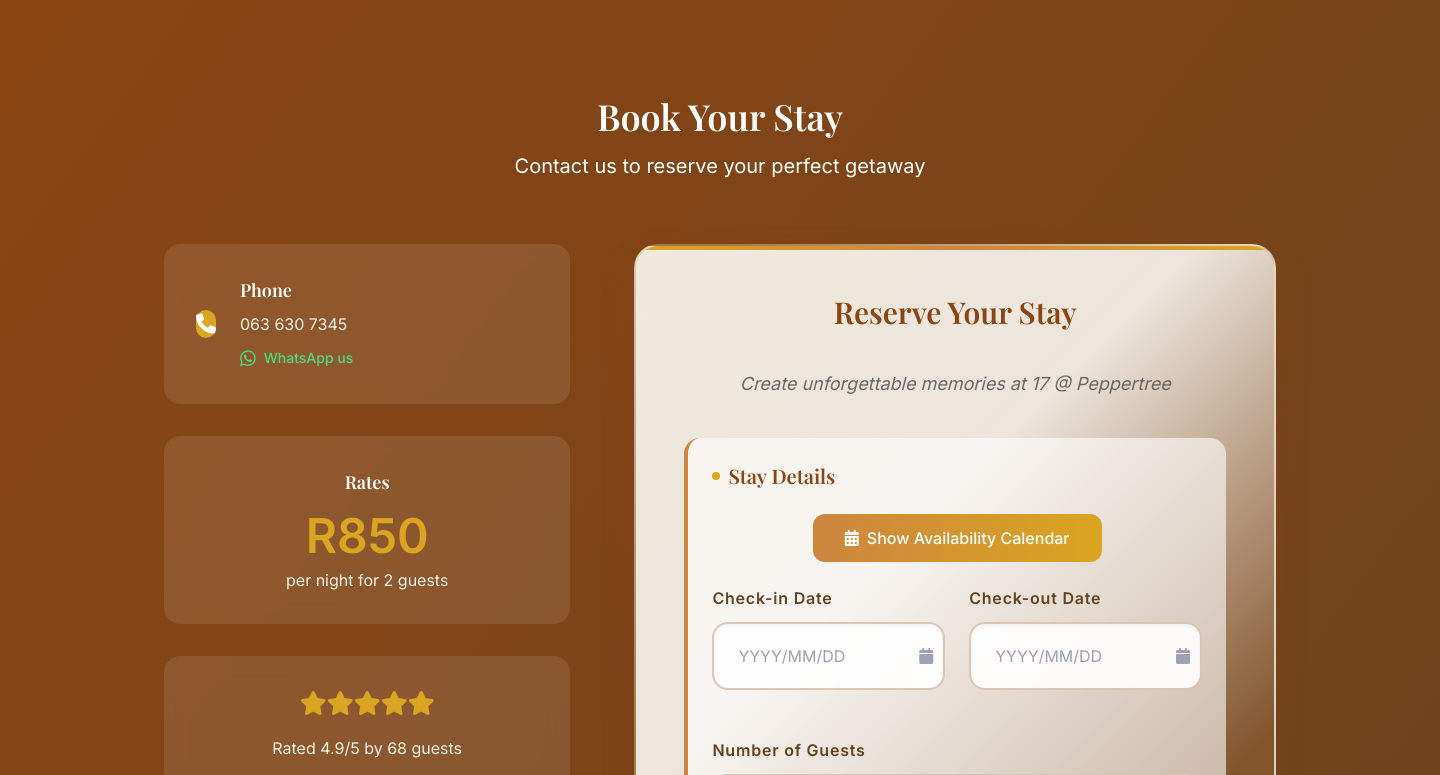
Test case: Contact Component › Form Input Handling › checkout validation message shows when checkout is before checkin
The image size is (1440, 775).
Note: Set valid dates but checkout before checkin
Type "2024/12/25" into the field labelled "Check-in Date" at [829, 656], box 712,622 -> 945,690
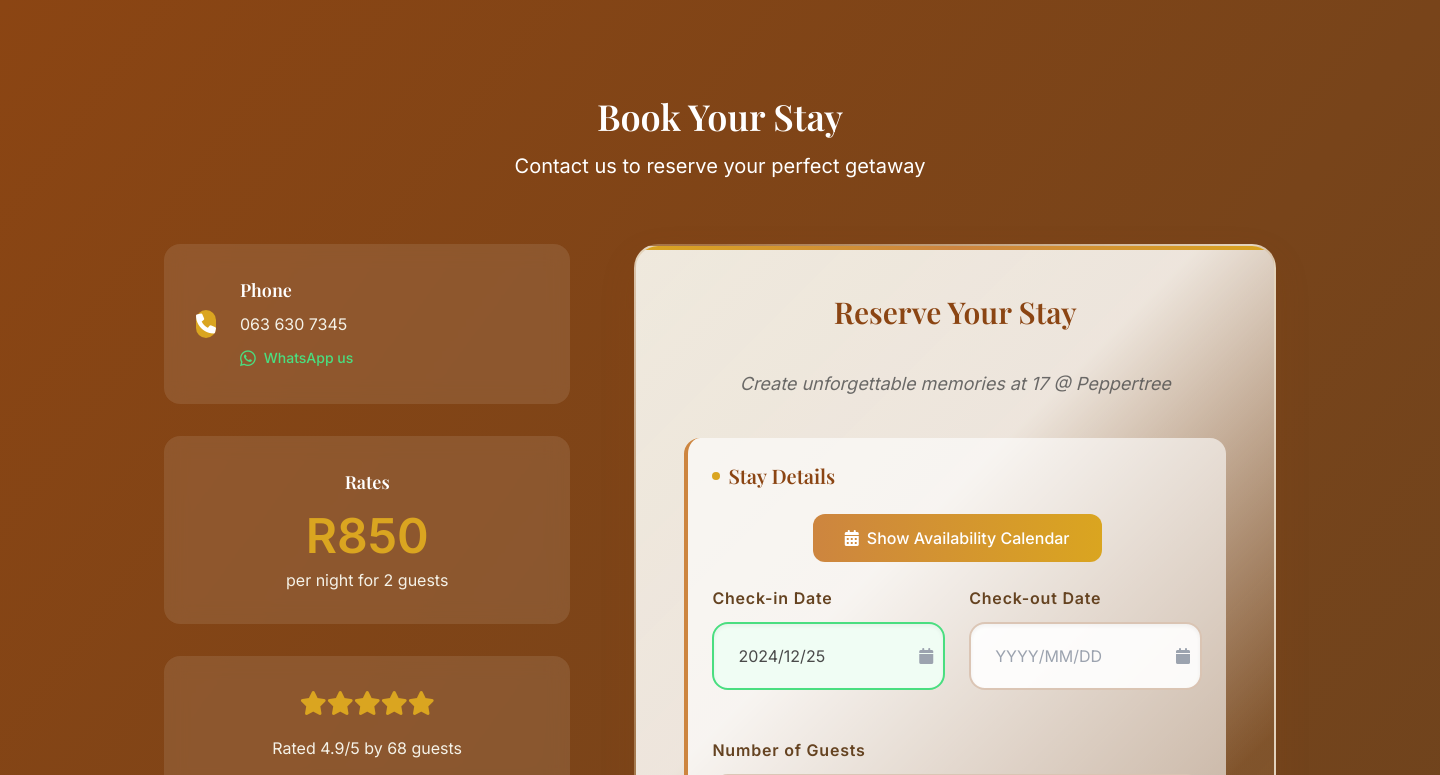
Type "2024/12/20" into the field labelled "Check-out Date" at [1086, 656], box 969,622 -> 1202,690
(page scrolled)
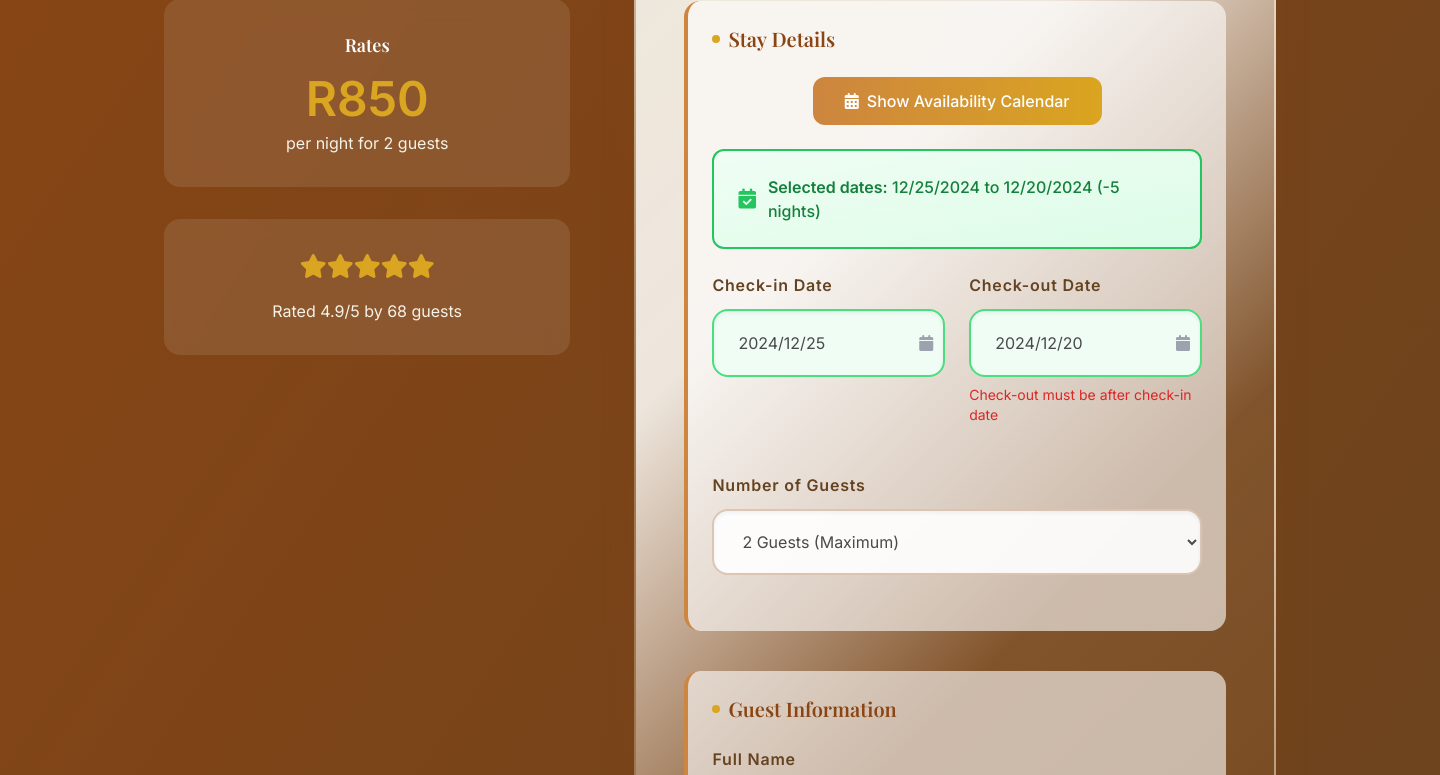
Result: the text "Check-out must be after check-in date" is shown at 969,385 -> 1202,425
